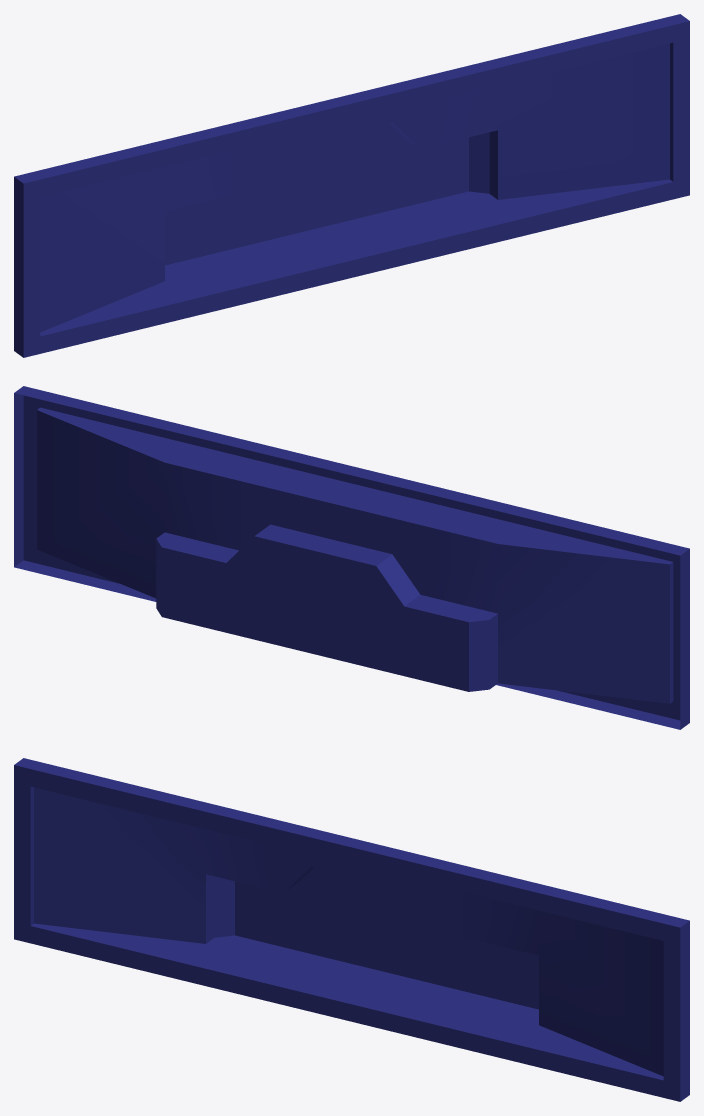
File: Wall_4x1m_A_Ex.FBX
3 renders of one model, top to bottom at view 1: azimuth 30°, elevation 25°; view 2: azimuth 150°, elevation 25°; view 3: azimuth 330°, elevation 25°, orthographic.
Visible parts, largest first — view 1: Wall_4x1m_A_Ex; view 2: Wall_4x1m_A_Ex; view 3: Wall_4x1m_A_Ex.
Part boxes in pixels (bbox=[...]): Wall_4x1m_A_Ex: bbox=[14, 14, 689, 357]; Wall_4x1m_A_Ex: bbox=[14, 386, 689, 729]; Wall_4x1m_A_Ex: bbox=[14, 758, 689, 1101].
Size of the model in its own units: 400 by 100 by 43.09.
